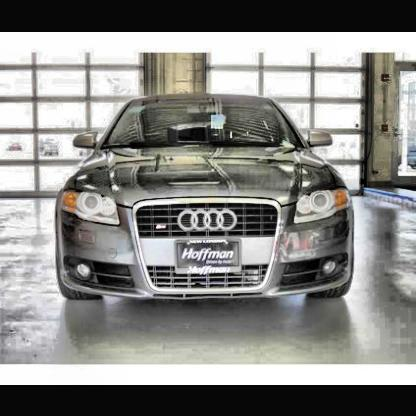Audi S4 Sedan 2007: (58, 94, 362, 319)
